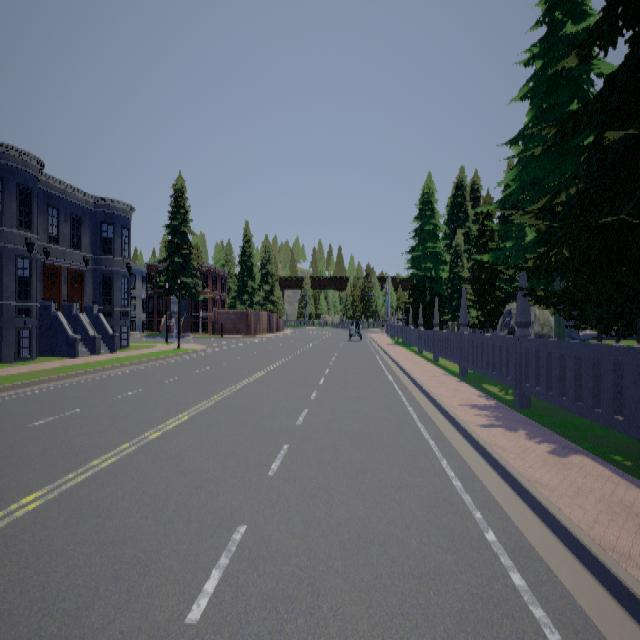vehicle: (347, 313, 362, 337)
